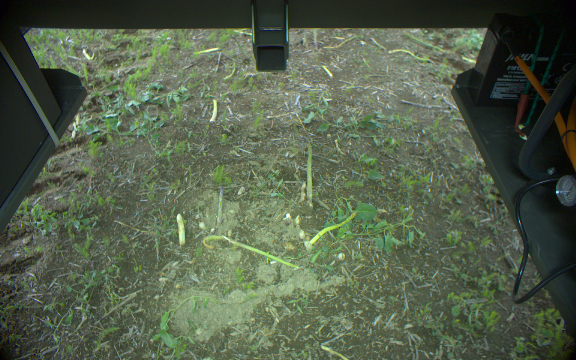aspa: (301, 141, 315, 202), (174, 211, 190, 246), (212, 184, 225, 225), (309, 27, 319, 50)
